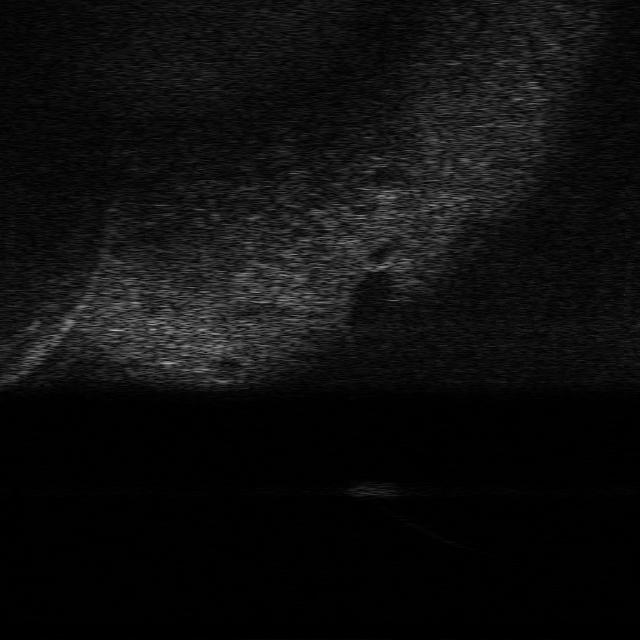cube: (348, 476, 398, 499)
